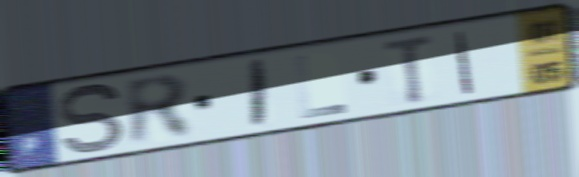I: (248, 55, 271, 132), (452, 29, 476, 97)
L: (292, 52, 351, 122)
R: (121, 72, 198, 149)
S: (56, 81, 128, 156)
T: (381, 31, 438, 107)
